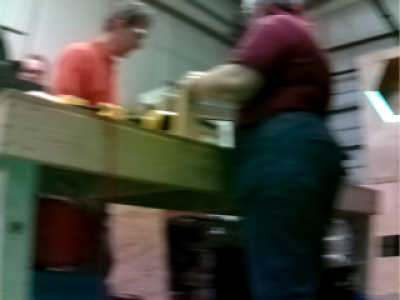target: (364, 90, 400, 123)
